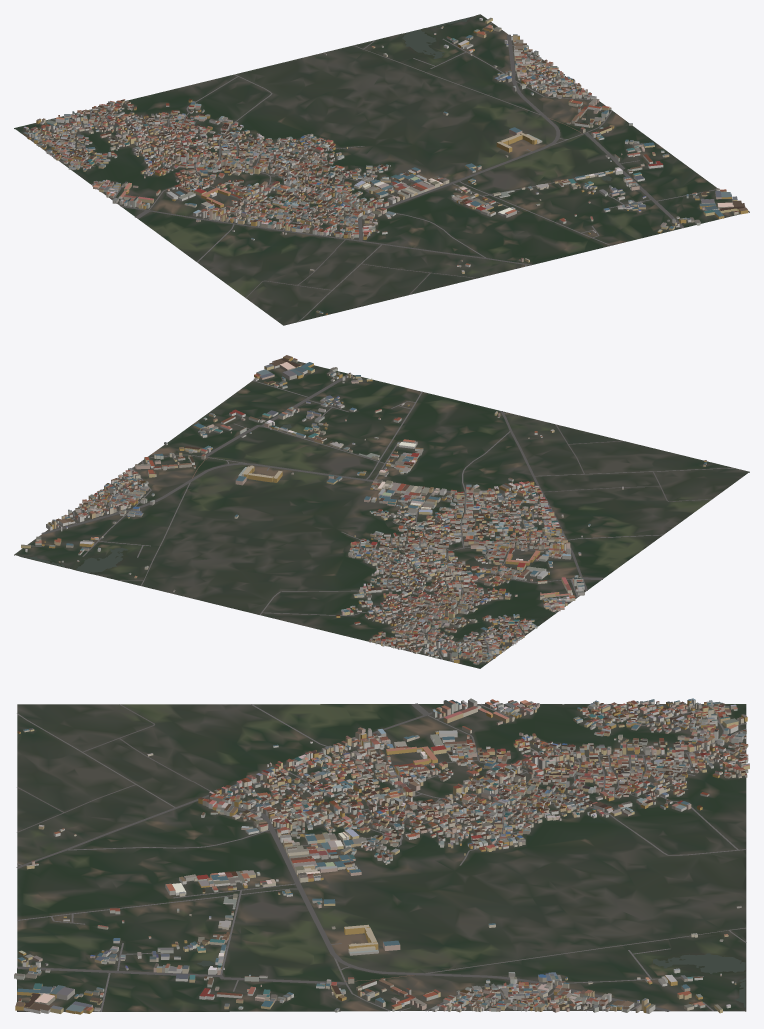
3 views of the same model, one above another, from view 1: azimuth 30°, elevation 25°; view 2: azimuth 150°, elevation 25°; view 3: azimuth 270°, elevation 25° (orthographic). The views are drawn at different scales.
Visible parts, largest first — view 1: ground, buildings, roads, water; view 2: ground, buildings, roads, water; view 3: ground, buildings, roads, water.
Part boxes in pixels (x1=…): ground: x1=14, y1=14, x2=749, y2=325; buildings: x1=23, y1=17, x2=748, y2=314; roads: x1=32, y1=22, x2=715, y2=322; water: x1=402, y1=16, x2=611, y2=180; ground: x1=14, y1=360, x2=749, y2=668; buildings: x1=21, y1=355, x2=706, y2=664; roads: x1=31, y1=374, x2=735, y2=661; water: x1=20, y1=424, x2=291, y2=572; ground: x1=17, y1=704, x2=746, y2=1011; buildings: x1=14, y1=698, x2=749, y2=1014; roads: x1=16, y1=703, x2=746, y2=1011; water: x1=197, y1=953, x2=745, y2=1007.
Bounding box in the file's own units: 1421 × 28.17 × 1415.
